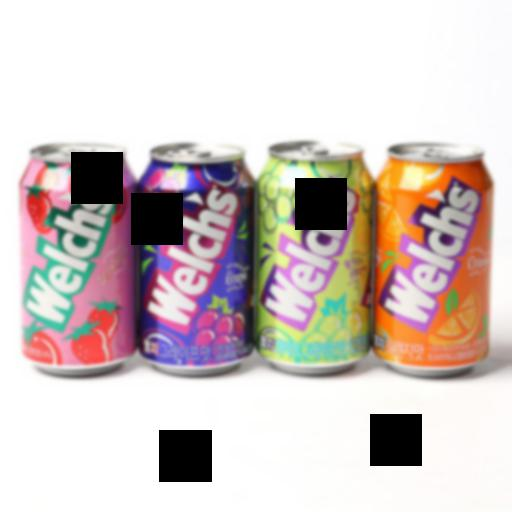welchs_grape: (138, 139, 262, 376)
